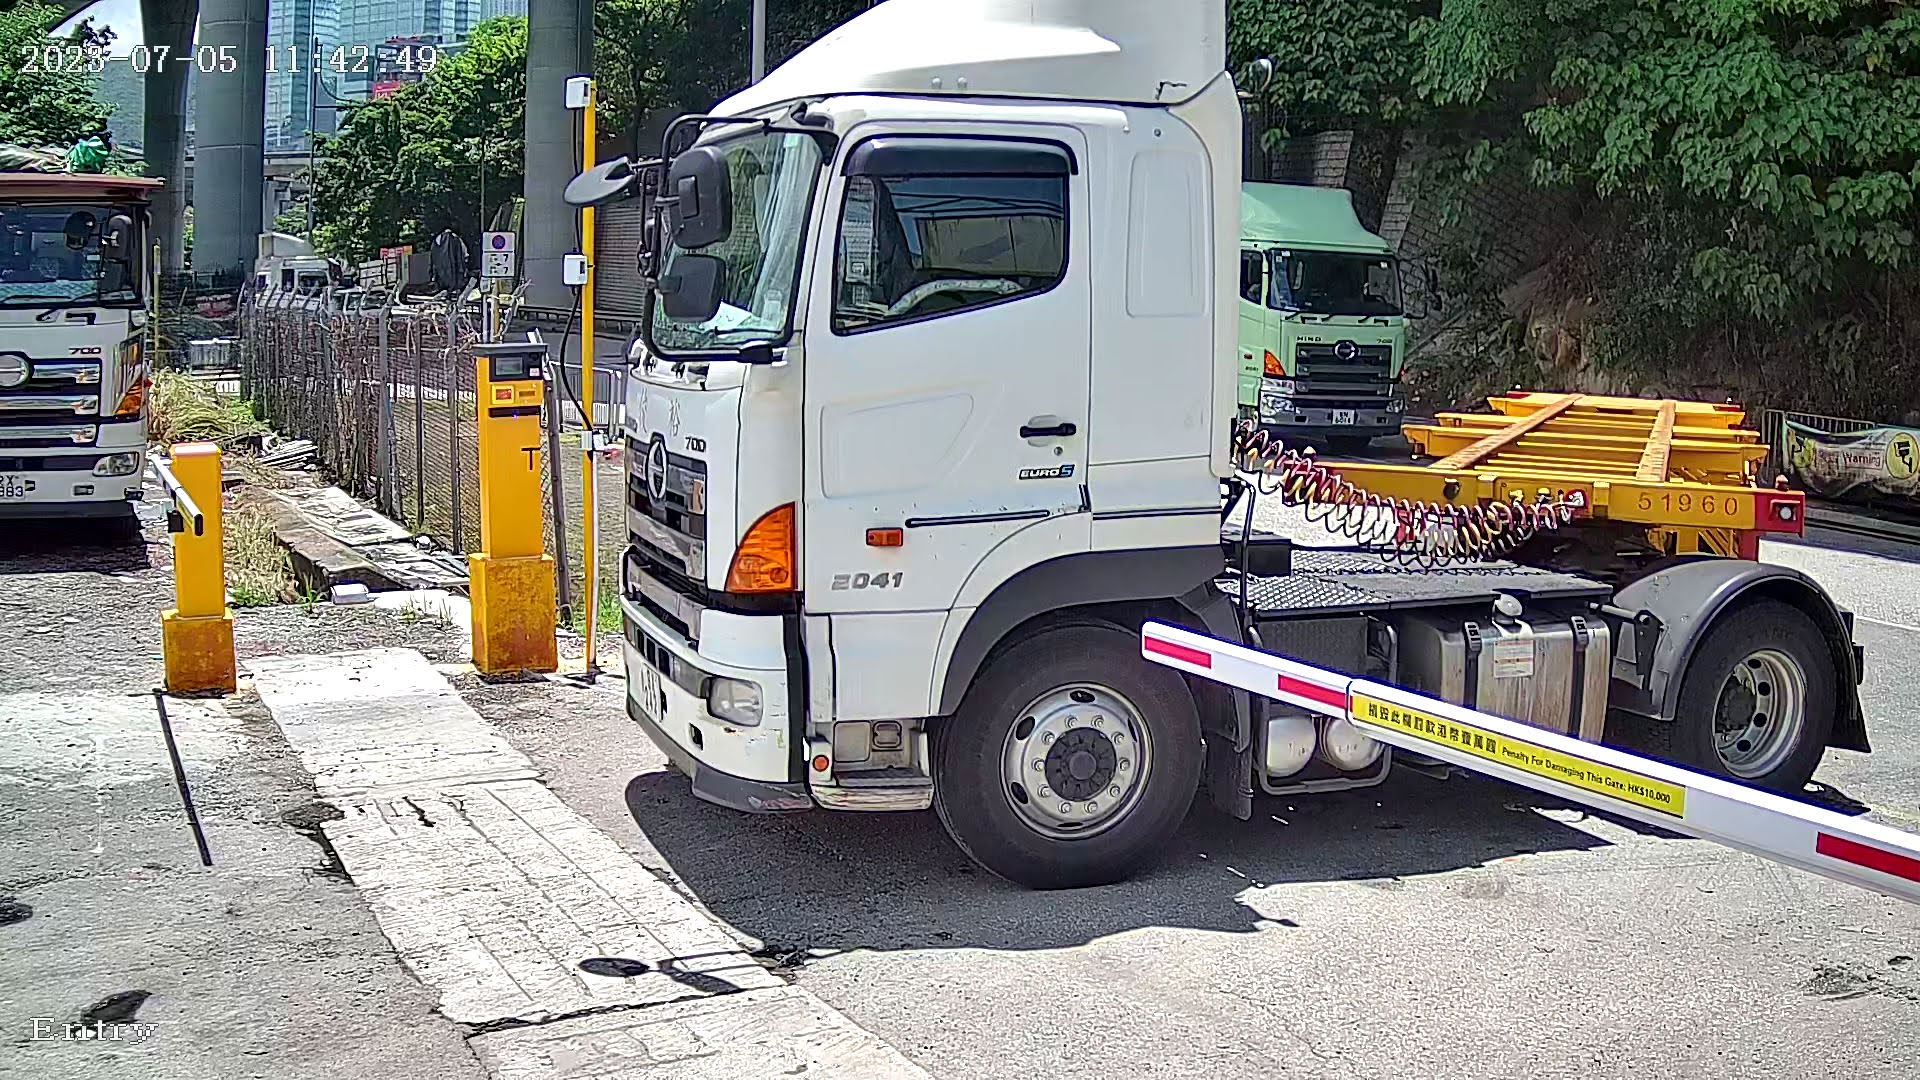truck: (547, 1, 1898, 961)
